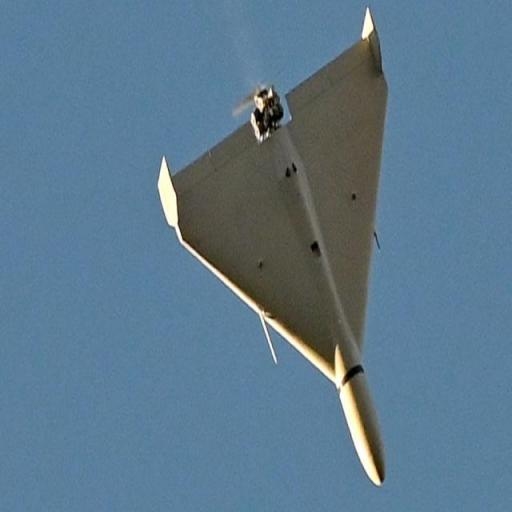uav: (148, 2, 433, 493)
